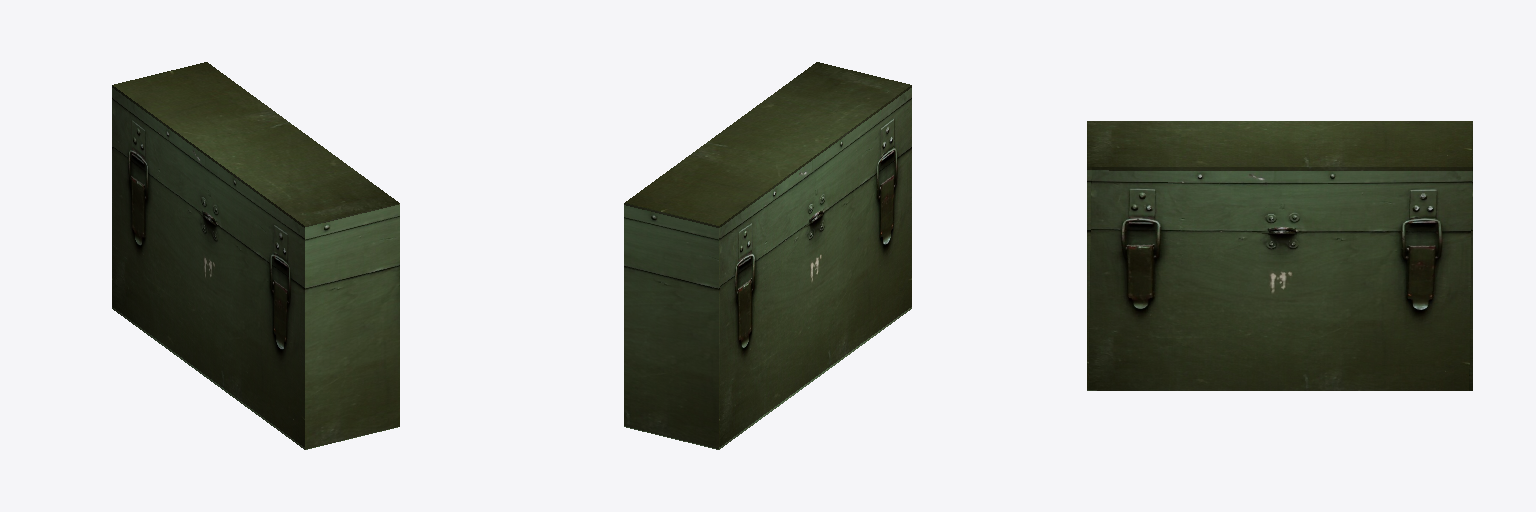
3 views of the same model, side by side, from view 1: azimuth 30°, elevation 25°; view 2: azimuth 150°, elevation 25°; view 3: azimuth 270°, elevation 25° (orthographic).
Visible parts, largest first — view 1: Cube_Cube.001; view 2: Cube_Cube.001; view 3: Cube_Cube.001.
Boxes of the visible parts, x1,y1,x2,y2 form: Cube_Cube.001: [112, 62, 399, 449]; Cube_Cube.001: [624, 62, 911, 449]; Cube_Cube.001: [1087, 121, 1472, 390].
Size of the model in its own units: 0.0521 by 0.1177 by 0.1837.
Materials: 1 (1 with a texture image).